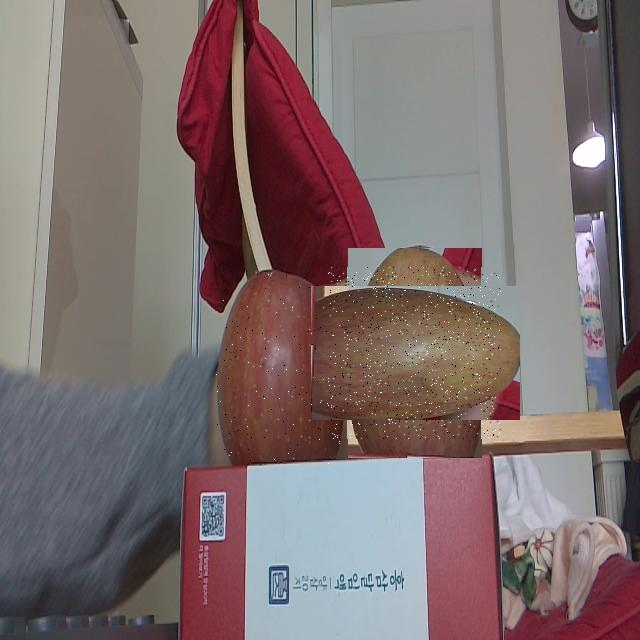apple: (329, 267, 502, 439), (216, 269, 346, 464)
